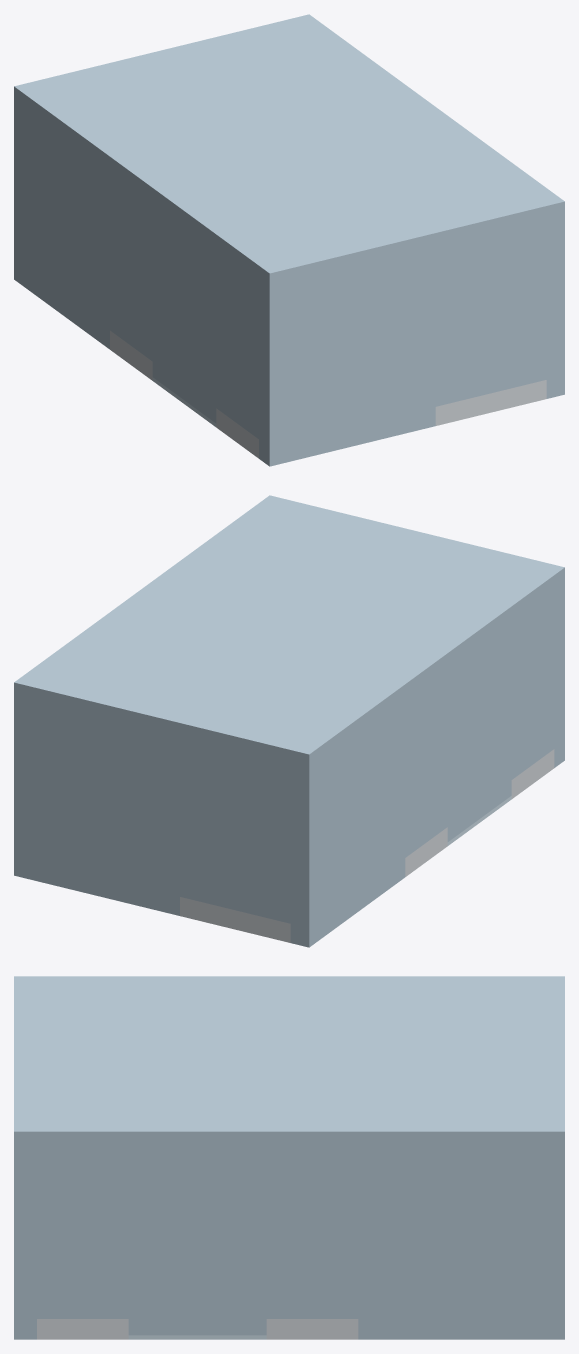
File: frozen-ford.glb
The picture shows the model from 3 angles, top to bottom: view 1: azimuth 30°, elevation 25°; view 2: azimuth 150°, elevation 25°; view 3: azimuth 270°, elevation 25°; orthographic projection. The views are drawn at different scales.
Parts seen in each view (by area): view 1: ice-rock_13, ice-rock_7, plug_frozen_west, ice-rock_1, plug_ice_south, ice-rock_10, ice-rock_8, ice-rock_11, snow_12, plug_frozen_west.001, snow_6, snow_10; view 2: ice-rock_13, ice-rock_2, plug_frozen_west, ice-rock_1, plug_ice_north, ice-rock_9, ice-rock_11, snow_1, ice-rock_7, plug_frozen_west.001, snow_10, snow_6; view 3: ice-rock_13, plug_frozen_east, ice-rock_5, ice-rock_6, ice-rock_3, ice-rock_4, ice-rock_12, ice-rock_2, ice-rock_8, plug_frozen_east.001, snow_7, snow_11 (+1 smaller).
Boxes of the visible parts, x1,y1,x2,y2 form: ice-rock_13: [14, 14, 564, 292]; ice-rock_7: [259, 252, 435, 466]; plug_frozen_west: [110, 195, 258, 438]; ice-rock_1: [14, 106, 109, 349]; plug_ice_south: [435, 264, 546, 406]; ice-rock_10: [435, 225, 546, 290]; ice-rock_8: [546, 221, 564, 398]; ice-rock_11: [110, 176, 258, 303]; snow_12: [454, 380, 546, 421]; plug_frozen_west.001: [152, 362, 216, 423]; snow_6: [110, 330, 152, 380]; snow_10: [216, 408, 258, 458]; ice-rock_13: [14, 495, 564, 773]; ice-rock_2: [14, 702, 179, 915]; plug_frozen_west: [405, 614, 554, 857]; ice-rock_1: [290, 704, 405, 947]; plug_ice_north: [180, 781, 290, 923]; ice-rock_9: [180, 742, 290, 807]; ice-rock_11: [405, 595, 554, 722]; snow_1: [180, 897, 290, 942]; ice-rock_7: [554, 587, 564, 767]; plug_frozen_west.001: [447, 780, 511, 841]; snow_10: [511, 749, 554, 798]; snow_6: [405, 827, 447, 876]; ice-rock_13: [14, 976, 564, 1152]; plug_frozen_east: [37, 1173, 358, 1318]; ice-rock_5: [404, 1152, 450, 1339]; ice-rock_6: [358, 1152, 404, 1339]; ice-rock_3: [496, 1152, 541, 1339]; ice-rock_4: [450, 1152, 495, 1339]; ice-rock_12: [37, 1152, 358, 1173]; ice-rock_2: [542, 1152, 564, 1339]; ice-rock_8: [14, 1152, 36, 1339]; plug_frozen_east.001: [128, 1319, 266, 1335]; snow_7: [266, 1319, 358, 1339]; snow_11: [37, 1319, 128, 1339].
Size of the model in its own units: 8 by 5 by 12.
